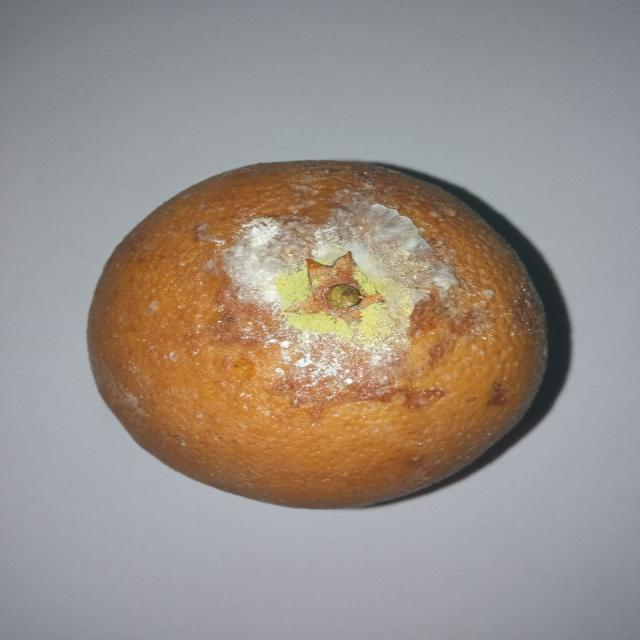rotten_orange: (86, 162, 546, 508)
